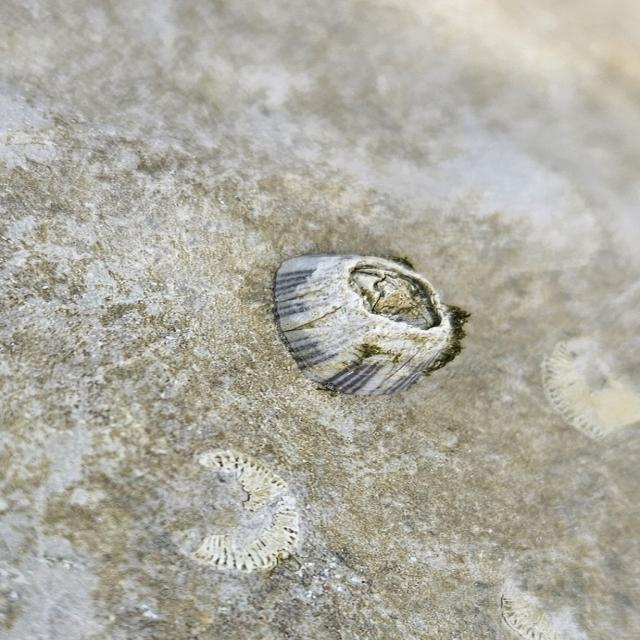barnacles: (245, 220, 478, 404)
